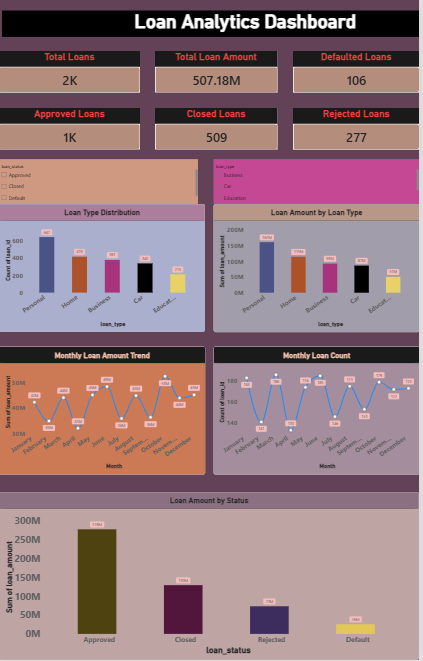

The page's visual inventory and layout, read from the dashboard file:
{"tool":"powerbi","page":{"name":"Loan Analytics Dashboard","canvas":[1400,2200],"ordinal":2},"visuals":[{"type":"textbox","title":"Loan Analytics Dashboard","box":[10,36,1622,134],"z":0},{"type":"cardVisual","title":"Total Loans","fields":{"Data":["loan_measures.total loan"]},"box":[0,170,470,138.3],"z":1000},{"type":"cardVisual","title":"Total Loan Amount","fields":{"Data":["loan_measures.Total Loan Amount"]},"box":[520,170,408,138],"z":2000},{"type":"cardVisual","title":"Defaulted Loans","fields":{"Data":["loan_measures.Defaulted Loans"]},"box":[978.3,170,421.7,138.3],"z":3000},{"type":"cardVisual","title":"Approved Loans","fields":{"Data":["loan_measures.Approved Loans"]},"box":[0,362,470,138],"z":4000},{"type":"cardVisual","title":"Closed Loans","fields":{"Data":["loan_measures.Closed Loans"]},"box":[520,362,408,138],"z":5000},{"type":"cardVisual","title":"Rejected Loans","fields":{"Data":["loan_measures.Rejected Loans"]},"box":[978.3,361.7,421.7,138.3],"z":6000},{"type":"clusteredColumnChart","title":"Loan Type Distribution","fields":{"Category":["Loans.loan_type"],"Y":["CountNonNull(Loans.loan_id)"]},"box":[0,680,686.7,426.7],"z":7000},{"type":"clusteredColumnChart","title":"Loan Amount by Loan Type","fields":{"Category":["Loans.loan_type"],"Y":["Sum(Loans.loan_amount)"]},"box":[715,680,687,427],"z":8000},{"type":"lineChart","title":"Monthly Loan Amount Trend","fields":{"Y":["Sum(Loans.loan_amount)"],"Category":["Loans.loan_date.Variation.Date Hierarchy.Month"]},"box":[0,1155,687,427],"z":9000},{"type":"lineChart","title":"Monthly Loan Count","fields":{"Category":["Loans.loan_date.Variation.Date Hierarchy.Month"],"Y":["CountNonNull(Loans.loan_id)"]},"box":[715,1155,687,427],"z":10000},{"type":"clusteredColumnChart","title":"Loan Amount by Status","fields":{"Category":["Loans.loan_status"],"Y":["Sum(Loans.loan_amount)"]},"box":[0,1640,1400,560],"z":11000},{"type":"slicer","fields":{"Values":["Loans.loan_status"]},"box":[0,530,663.3,150],"z":12000},{"type":"slicer","fields":{"Values":["Loans.loan_type"]},"box":[715,530,685,150],"z":13000}]}

Visuals, with their boxes in screenshot pixels (x1, y1, x2, y2), scaled from the page's 1400x2200 canvas onto the 423x661 screenshot:
"Loan Analytics Dashboard" textbox: crop(3, 11, 422, 51)
"Total Loans" cardVisual: crop(0, 51, 142, 93)
"Total Loan Amount" cardVisual: crop(157, 51, 280, 93)
"Defaulted Loans" cardVisual: crop(296, 51, 422, 93)
"Approved Loans" cardVisual: crop(0, 109, 142, 150)
"Closed Loans" cardVisual: crop(157, 109, 280, 150)
"Rejected Loans" cardVisual: crop(296, 109, 422, 150)
"Loan Type Distribution" clusteredColumnChart: crop(0, 204, 207, 333)
"Loan Amount by Loan Type" clusteredColumnChart: crop(216, 204, 422, 333)
"Monthly Loan Amount Trend" lineChart: crop(0, 347, 208, 475)
"Monthly Loan Count" lineChart: crop(216, 347, 422, 475)
"Loan Amount by Status" clusteredColumnChart: crop(0, 493, 422, 660)
slicer - Loans.loan_status: crop(0, 159, 200, 204)
slicer - Loans.loan_type: crop(216, 159, 422, 204)
